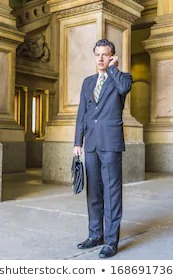F_dress pants: (84, 134, 125, 249)
